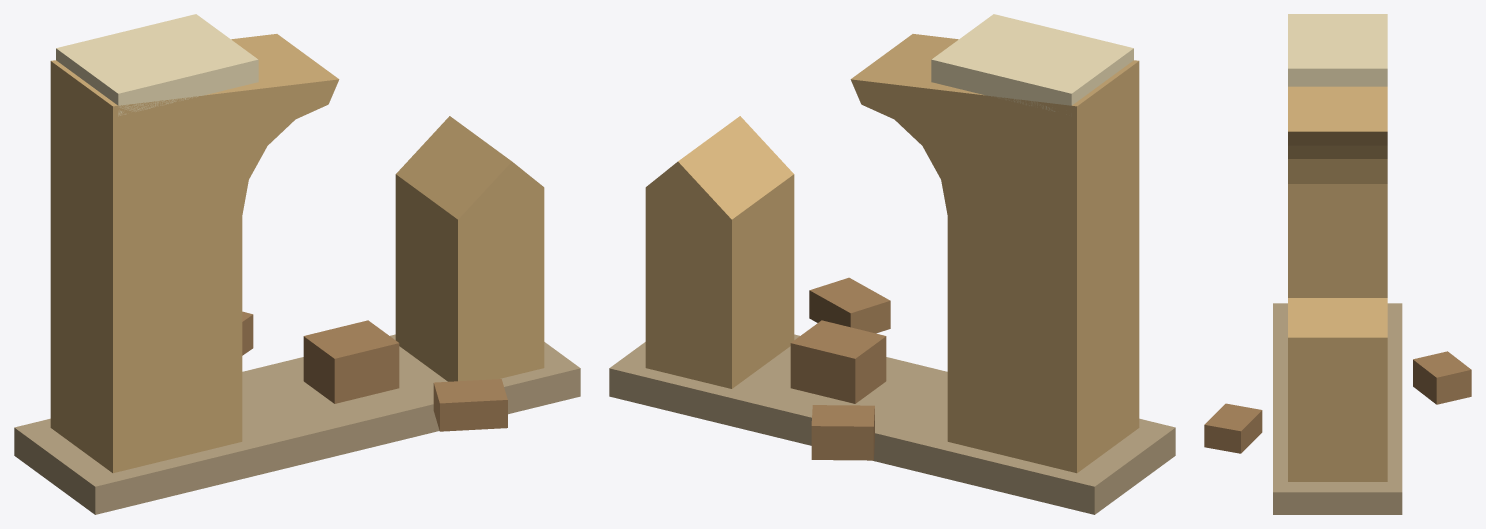
File: ruin_arch.fbx
3 renders of one model, left to right at view 1: azimuth 30°, elevation 25°; view 2: azimuth 150°, elevation 25°; view 3: azimuth 270°, elevation 25°, orthographic. The views are drawn at different scales.
Parts seen in each view (by area): view 1: ruin_arch; view 2: ruin_arch; view 3: ruin_arch.
Part boxes in pixels (x1,y1,x2,y2): ruin_arch: (14, 14, 580, 514); ruin_arch: (609, 14, 1175, 514); ruin_arch: (1204, 14, 1471, 514).
Size of the model in its own units: 9 by 7.2 by 5.37.
Materials: 1 (1 with a texture image).
